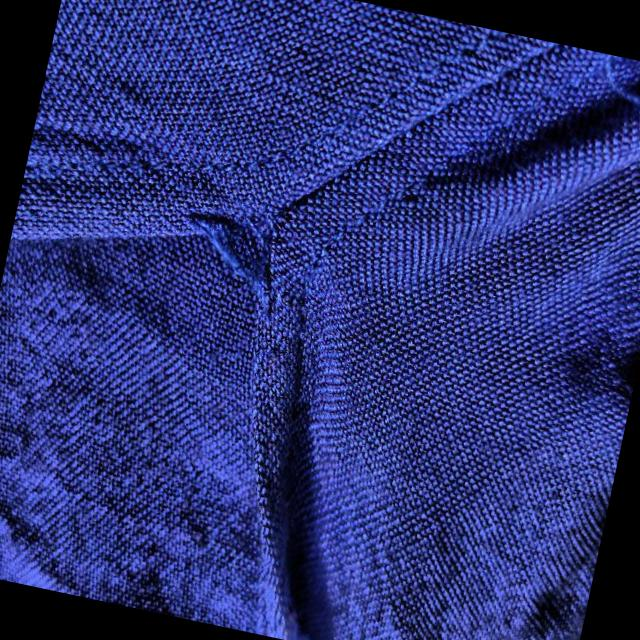gray stitch: (143, 161, 334, 341)
